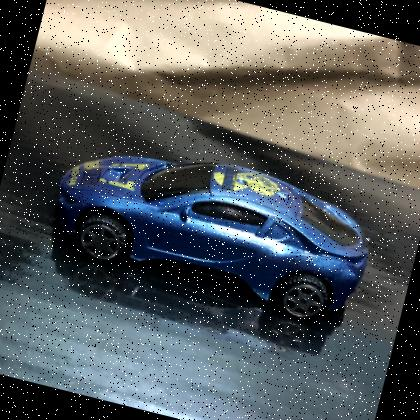Car: (54, 156, 368, 320)
